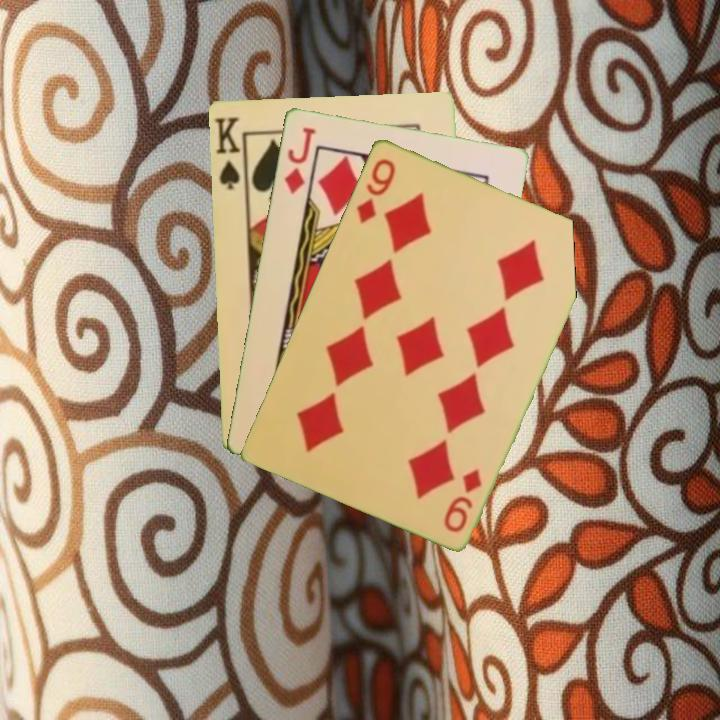9d: (352, 154, 399, 226), (440, 464, 485, 535)
Jd: (280, 123, 319, 197)
Ks: (211, 113, 242, 192)
